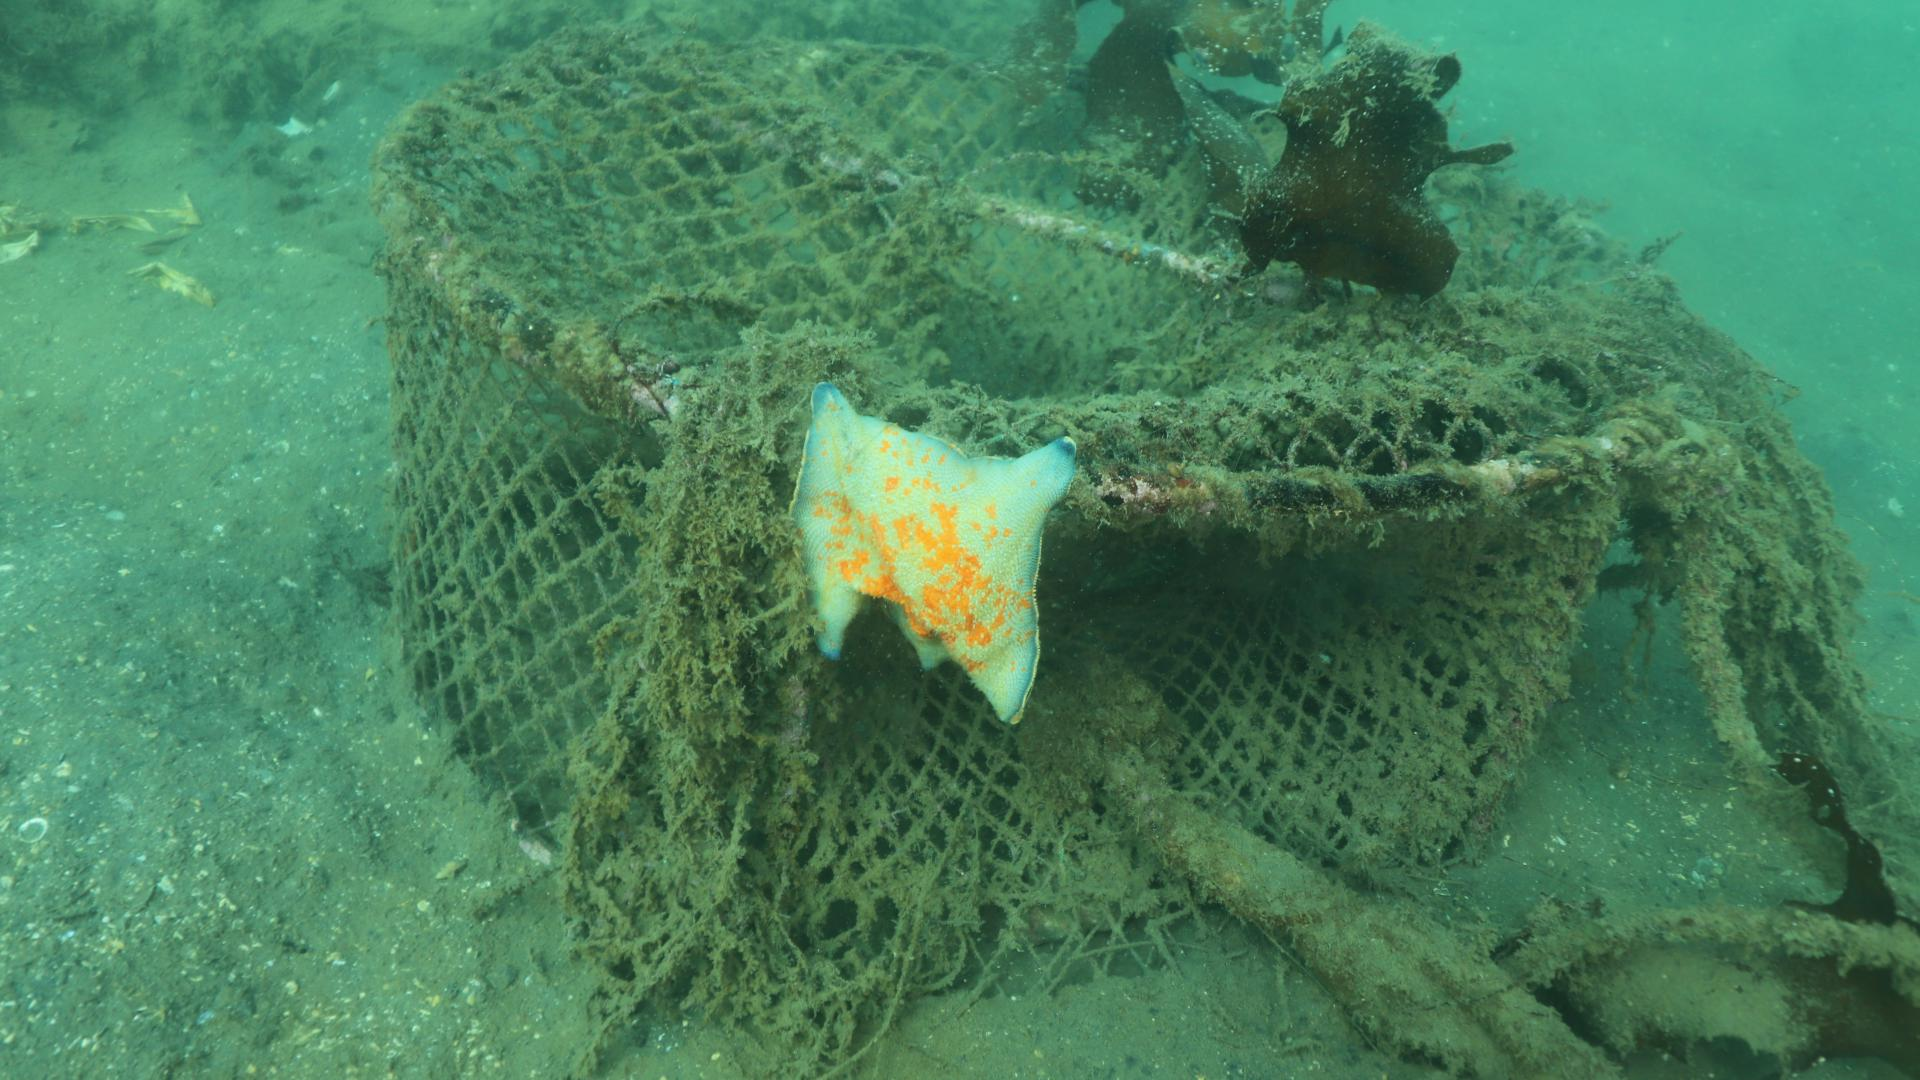circular fish trap: (360, 26, 1712, 1030)
